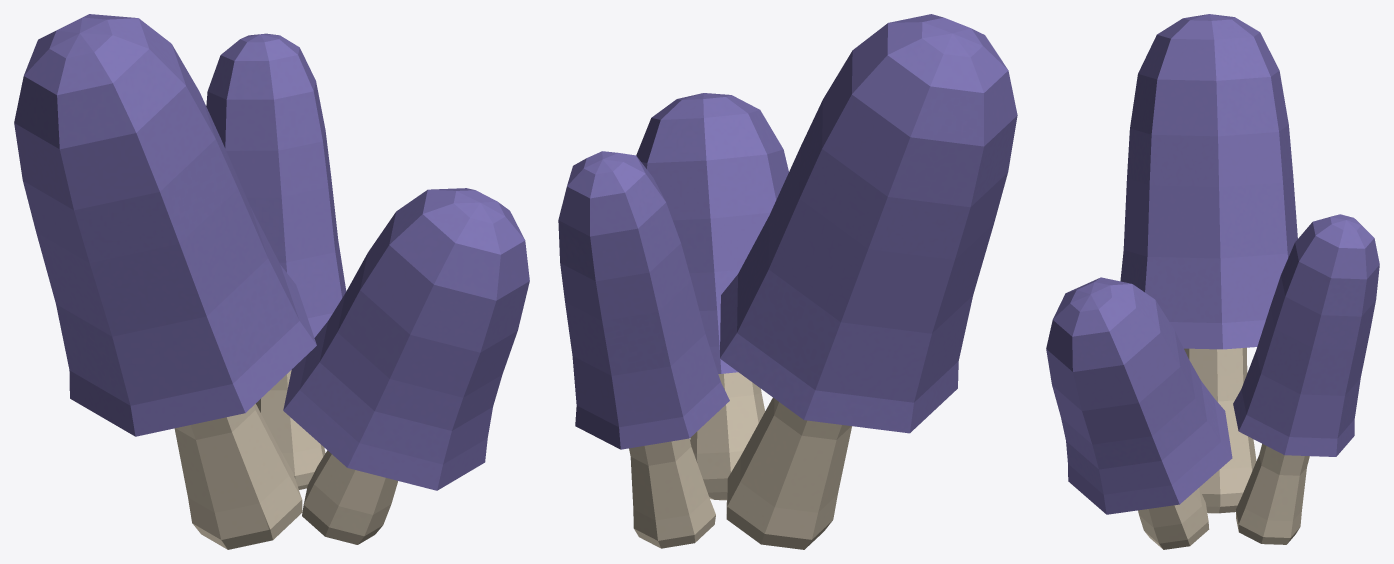
File: MushRoom_02.fbx
3 views of the same model, side by side, from view 1: azimuth 30°, elevation 25°; view 2: azimuth 150°, elevation 25°; view 3: azimuth 270°, elevation 25° (orthographic). The views are drawn at different scales.
Parts seen in each view (by area): view 1: MushRoom_02; view 2: MushRoom_02; view 3: MushRoom_02.
Boxes of the visible parts, x1,y1,x2,y2 form: MushRoom_02: [14, 14, 529, 549]; MushRoom_02: [558, 14, 1017, 549]; MushRoom_02: [1046, 14, 1379, 549].
Size of the model in its own units: 33.24 by 41.41 by 28.55.
1 material, 1 textured.
